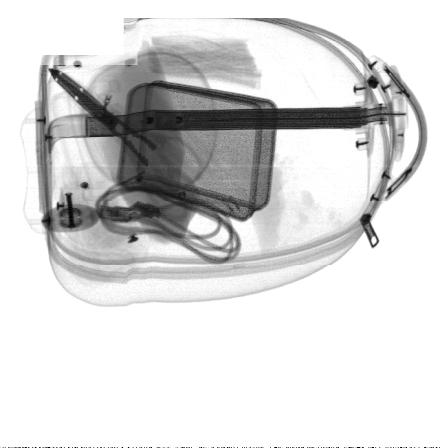Scissors: (46, 65, 178, 196)
